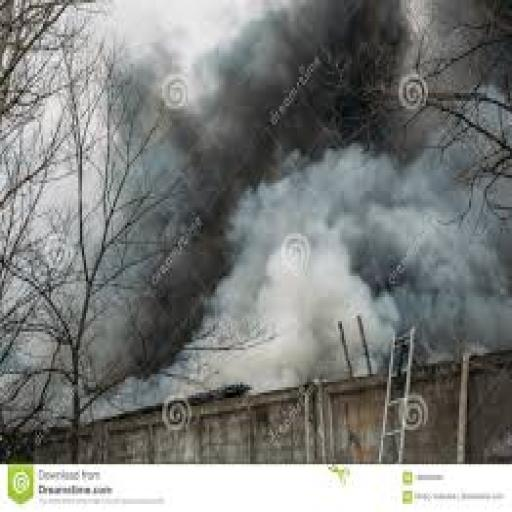smoke: (118, 8, 496, 398)
